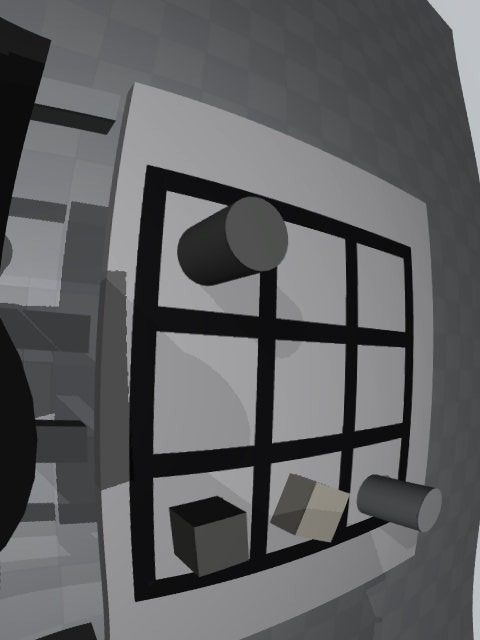can: (356, 474, 442, 532)
cube: (169, 496, 249, 577)
cylinder: (177, 196, 288, 286)
foam: (270, 473, 350, 543)
